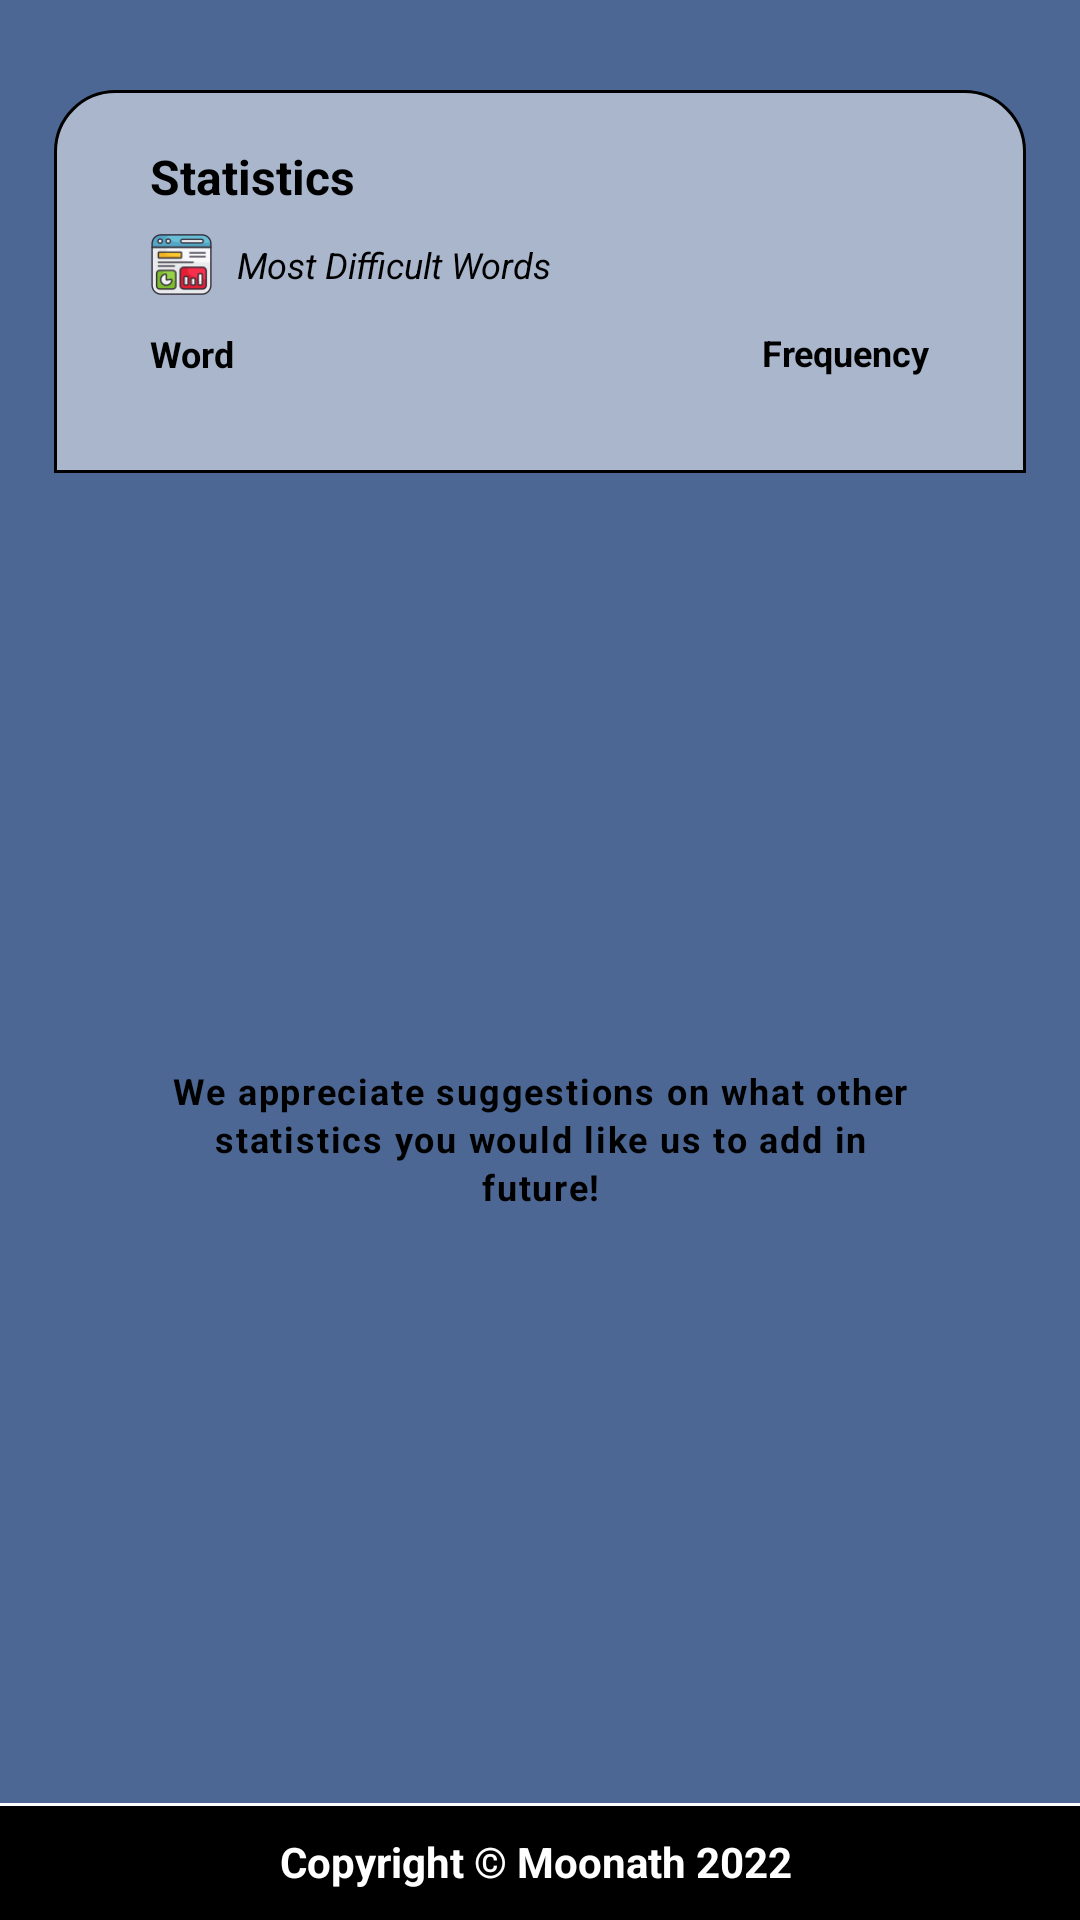

Locate icon controls on the screen. Image size 1080 x 1920, boxes as (x1, y1, x2, y2).
ANALYTICS: (151, 234, 212, 295)
